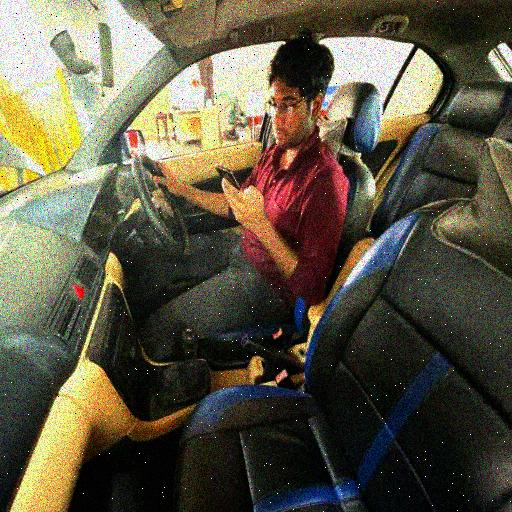Texting_on_phone: (152, 38, 349, 379)
